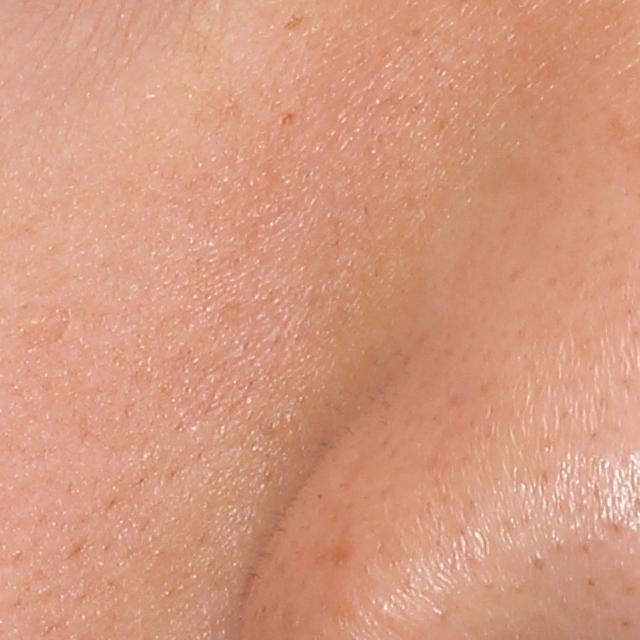atrophic_scar: (17, 298, 73, 349)
melasma: (281, 9, 306, 32)
